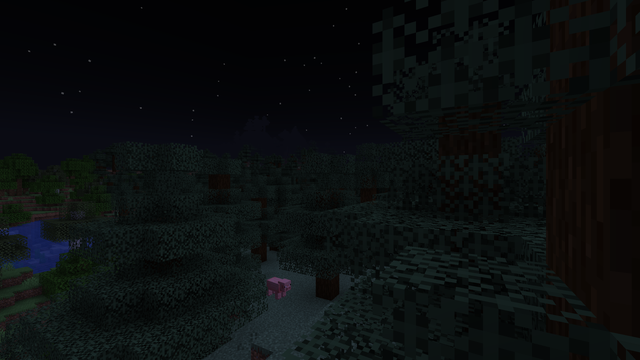cochons: (268, 275, 287, 299)
